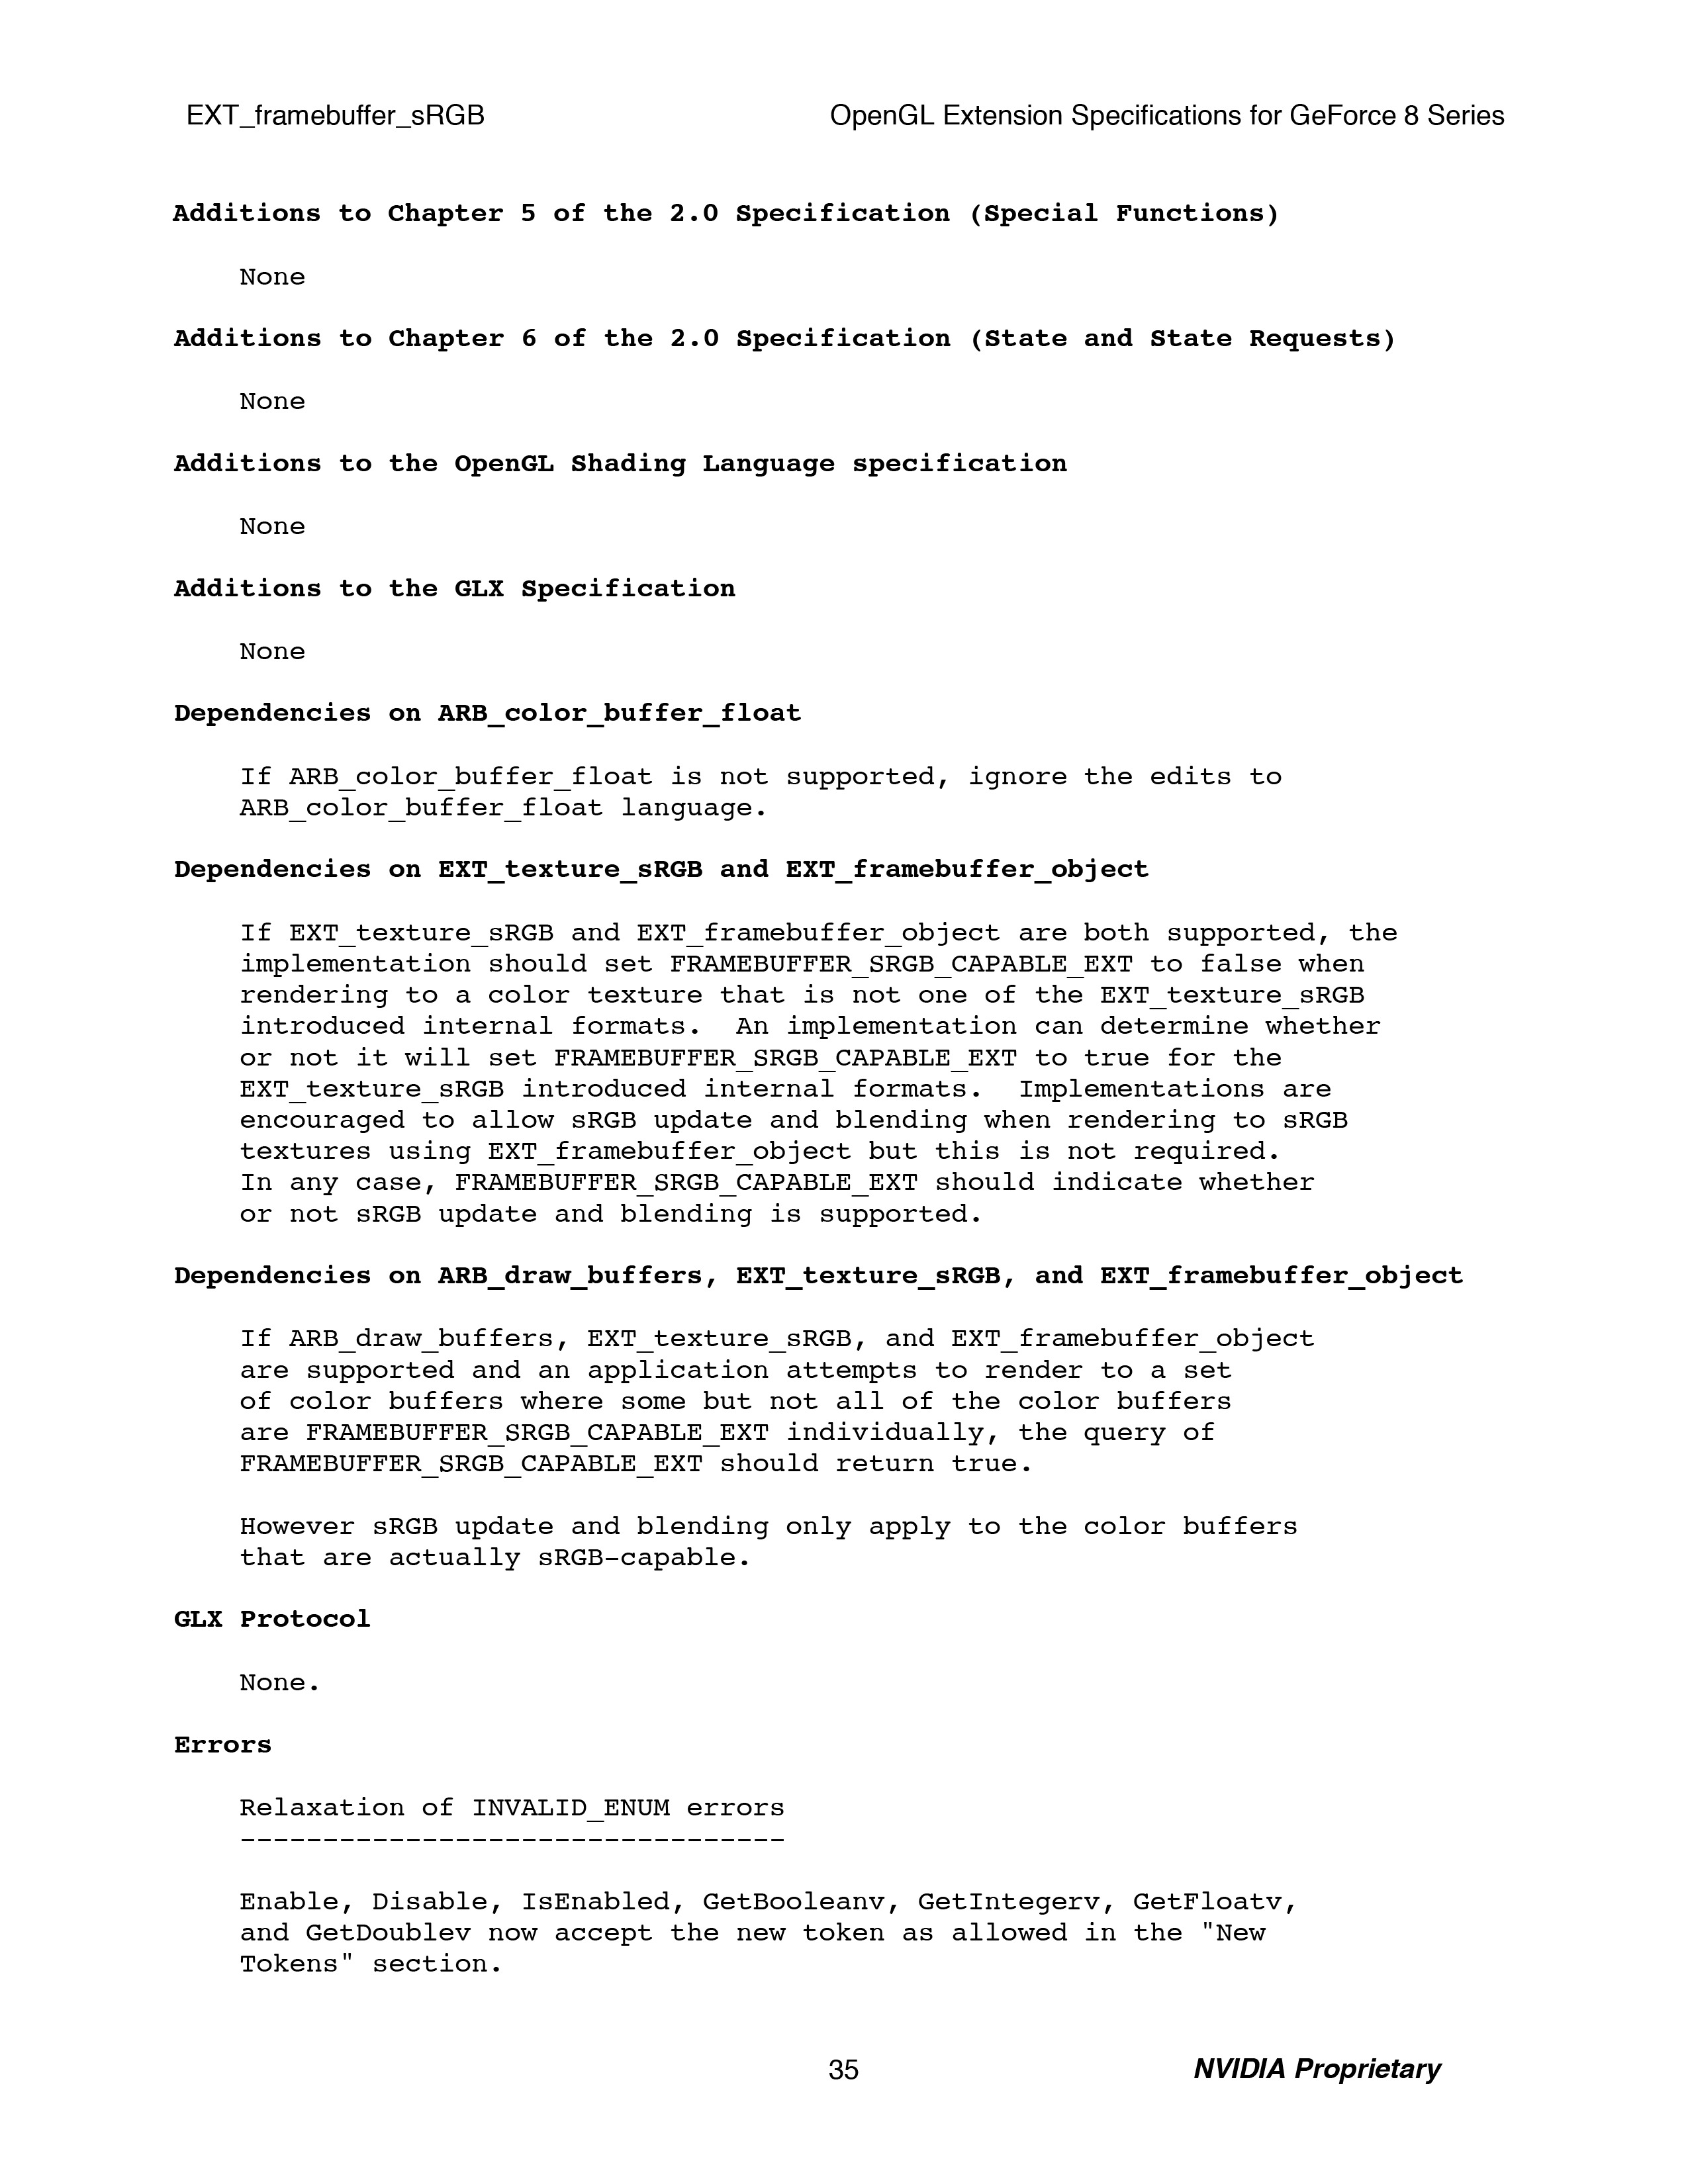section: (156, 181, 1301, 246), (170, 1252, 1479, 1305), (160, 314, 1411, 369), (156, 849, 1195, 902), (160, 686, 823, 743), (163, 456, 1092, 493), (167, 565, 766, 619), (170, 1588, 387, 1650), (160, 1732, 296, 1767)
text: (243, 925, 1418, 1214), (232, 1315, 1332, 1581), (232, 1858, 1273, 1991), (231, 755, 1296, 830)
